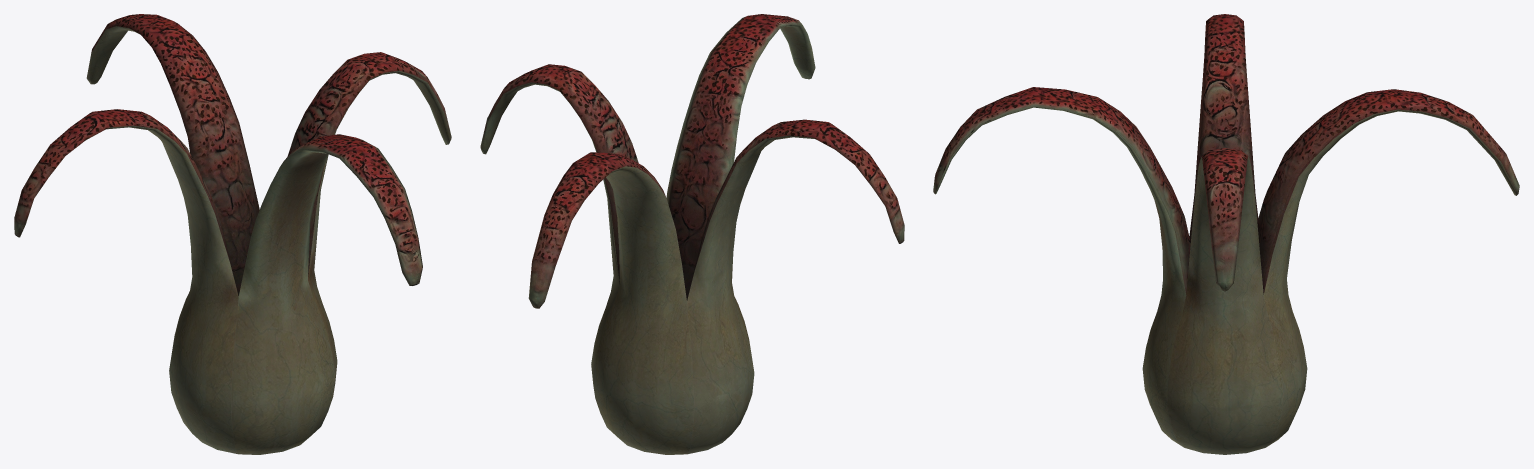
File: devils_puffball.glb
The picture shows the model from 3 angles, left to right: view 1: azimuth 30°, elevation 25°; view 2: azimuth 150°, elevation 25°; view 3: azimuth 270°, elevation 25°; orthographic projection. The views are drawn at different scales.
Visible parts, largest first — view 1: smd_mesh; view 2: smd_mesh; view 3: smd_mesh.
Part boxes in pixels (x1,y1,x2,y2): smd_mesh: (14, 14, 451, 454); smd_mesh: (480, 14, 904, 454); smd_mesh: (933, 14, 1519, 454).
Size of the model in its own units: 0.0515 by 0.0422 by 0.0622.
1 material, 1 textured.
